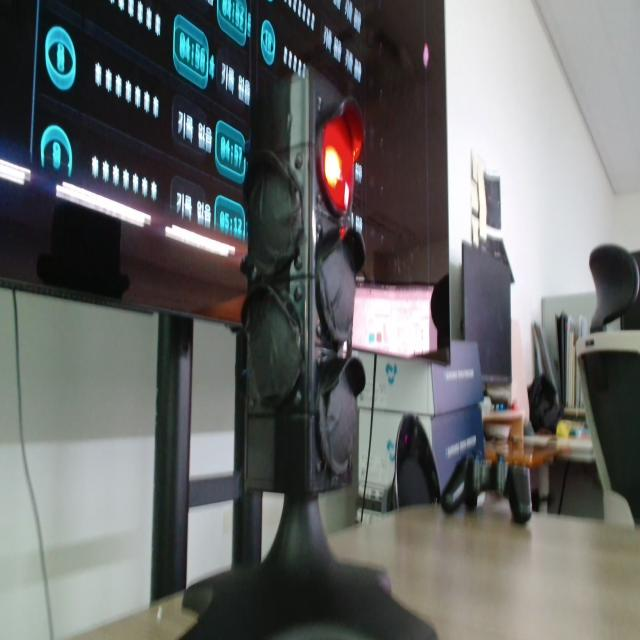red_light: (321, 101, 363, 214), (323, 117, 354, 212)
